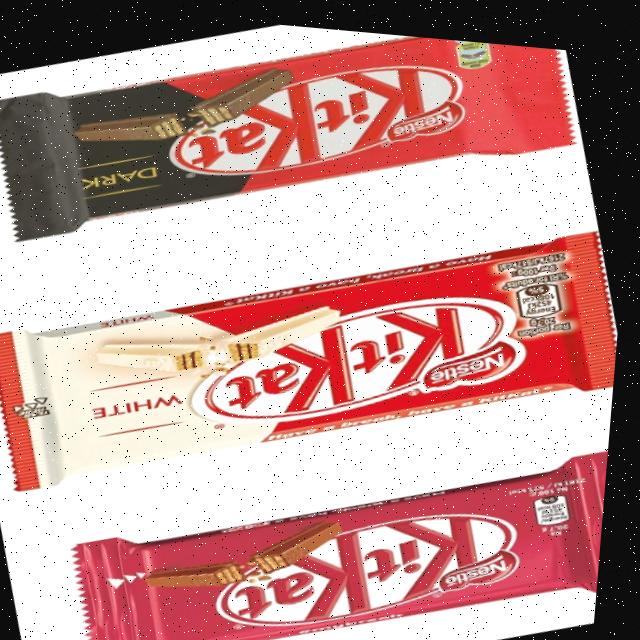kitkat: (0, 176, 629, 531), (0, 0, 583, 280), (73, 396, 615, 640)
